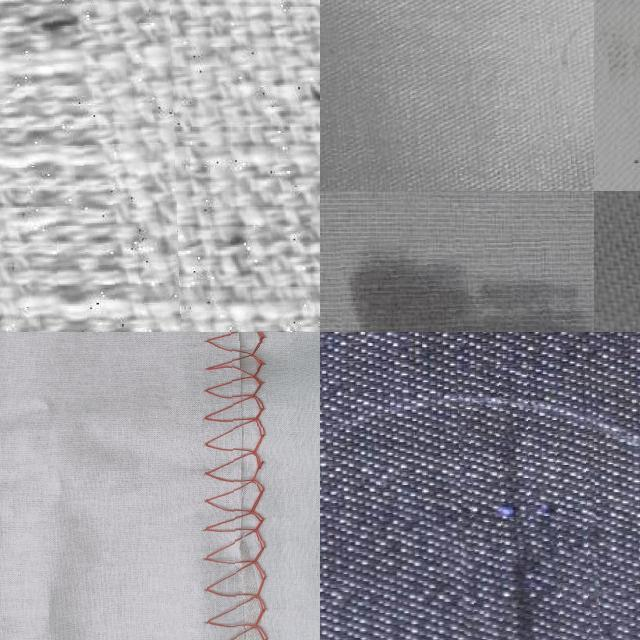Thread_other: (320, 231, 595, 332)
Thread_out: (152, 332, 310, 640)
stains: (459, 362, 601, 640)
